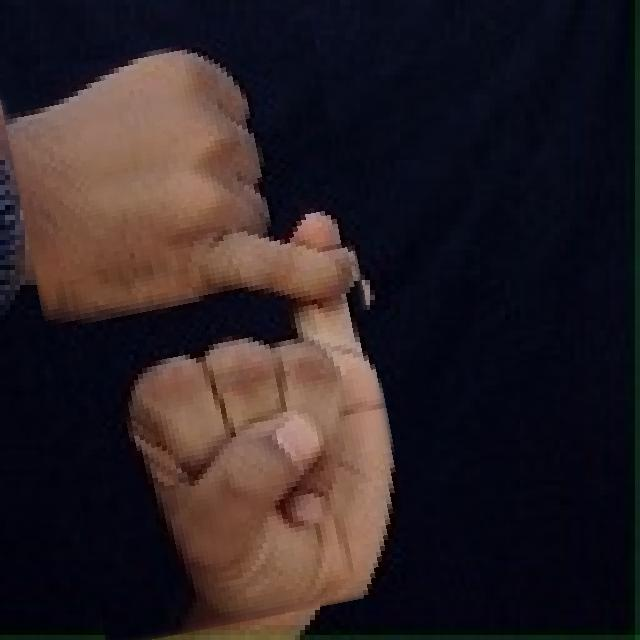S: (22, 30, 394, 636)
